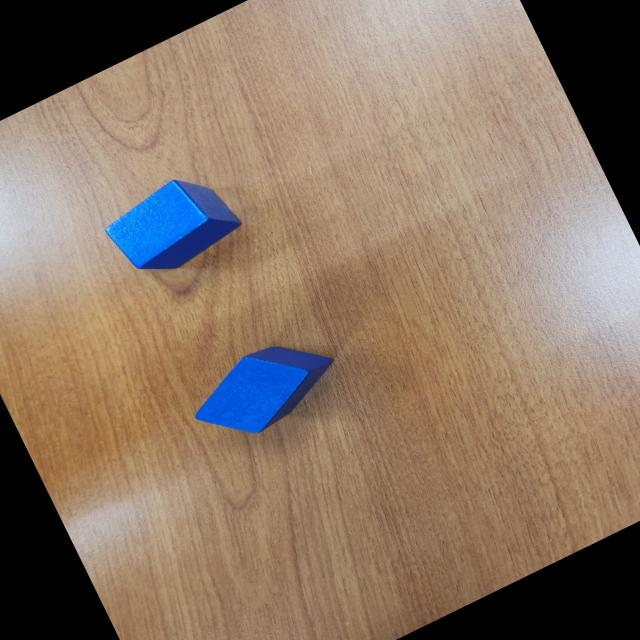blue: (180, 322, 348, 455), (97, 160, 248, 290)
